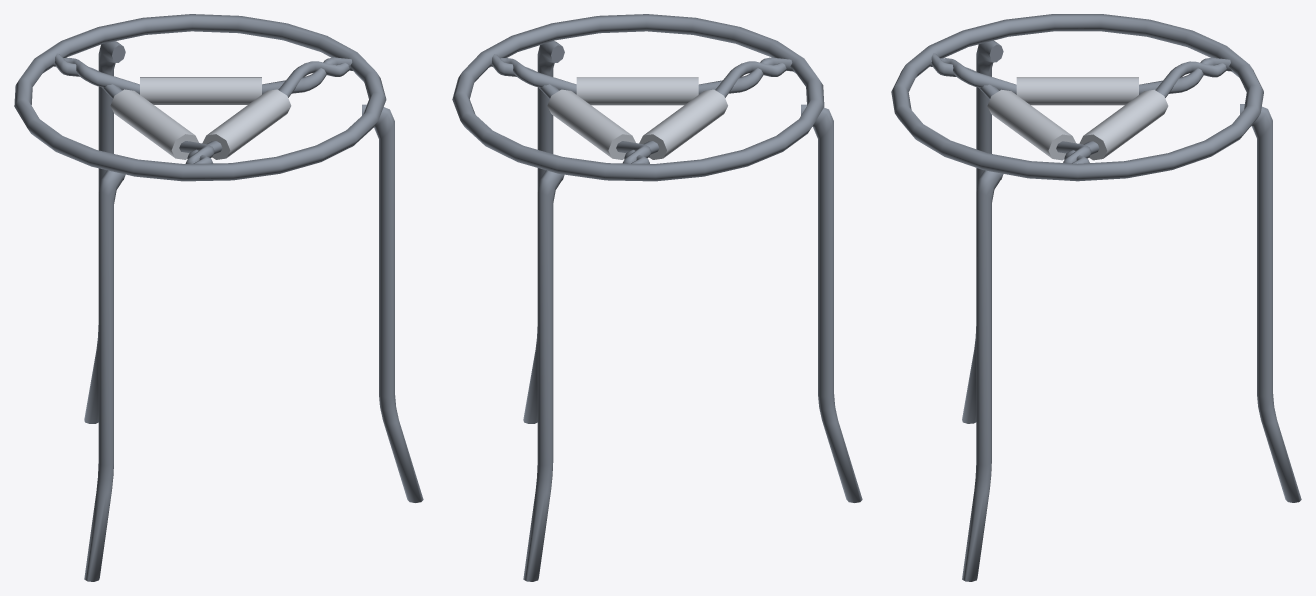
File: heating_equipment_ring_stand.glb
3 renders of one model, left to right at view 1: azimuth 30°, elevation 25°; view 2: azimuth 150°, elevation 25°; view 3: azimuth 270°, elevation 25°, orthographic.
Visible parts, largest first — view 1: heating_equipment_ring_stand, heating_equipment_clay_triangle.003; view 2: heating_equipment_ring_stand, heating_equipment_clay_triangle.003; view 3: heating_equipment_ring_stand, heating_equipment_clay_triangle.003.
Boxes of the visible parts, <box> form: heating_equipment_ring_stand: <box>14,14,423,581</box>; heating_equipment_clay_triangle.003: <box>52,53,353,163</box>; heating_equipment_ring_stand: <box>452,14,862,581</box>; heating_equipment_clay_triangle.003: <box>490,54,793,163</box>; heating_equipment_ring_stand: <box>891,14,1301,581</box>; heating_equipment_clay_triangle.003: <box>929,53,1231,163</box>.
Bounding box in the file's own units: 23.31 × 27.02 × 24.56.
Materials: 1 (1 with a texture image).
